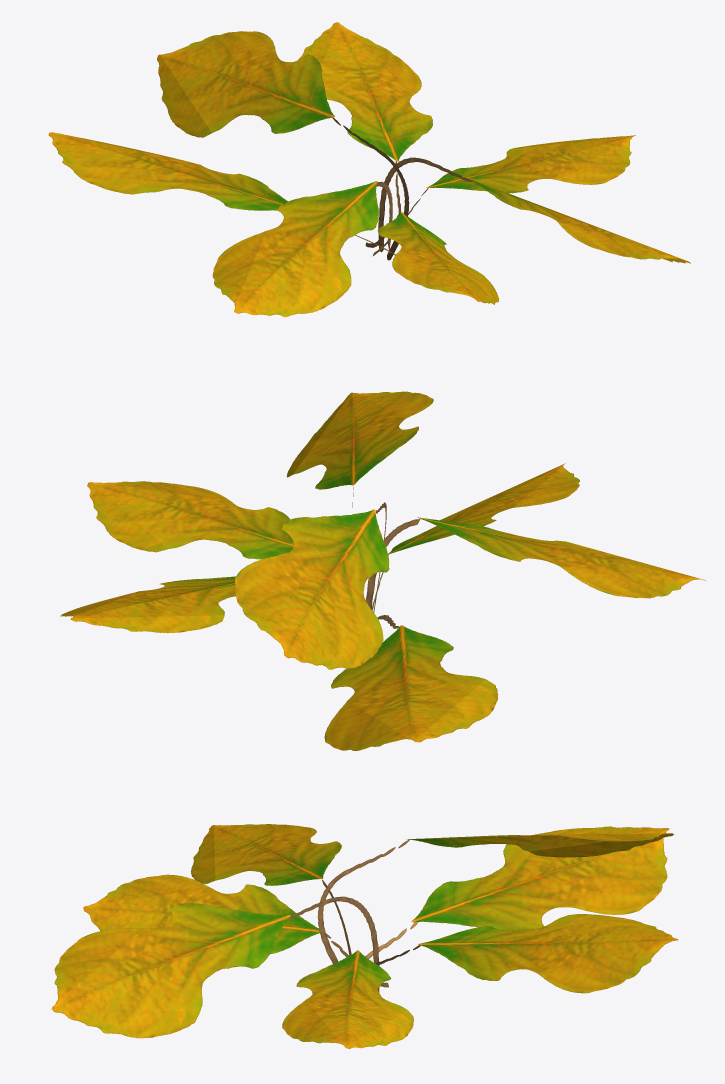
The model's file is Row Root A4.fbx.
The picture shows the model from 3 angles, top to bottom: view 1: azimuth 30°, elevation 25°; view 2: azimuth 150°, elevation 25°; view 3: azimuth 270°, elevation 25°; orthographic projection. The views are drawn at different scales.
Visible parts, largest first — view 1: Row Root A4; view 2: Row Root A4; view 3: Row Root A4.
Boxes of the visible parts, x1,y1,x2,y2 form: Row Root A4: (48, 22, 690, 317); Row Root A4: (60, 391, 705, 750); Row Root A4: (51, 824, 678, 1048).
Size of the model in its own units: 179 by 59.65 by 207.
